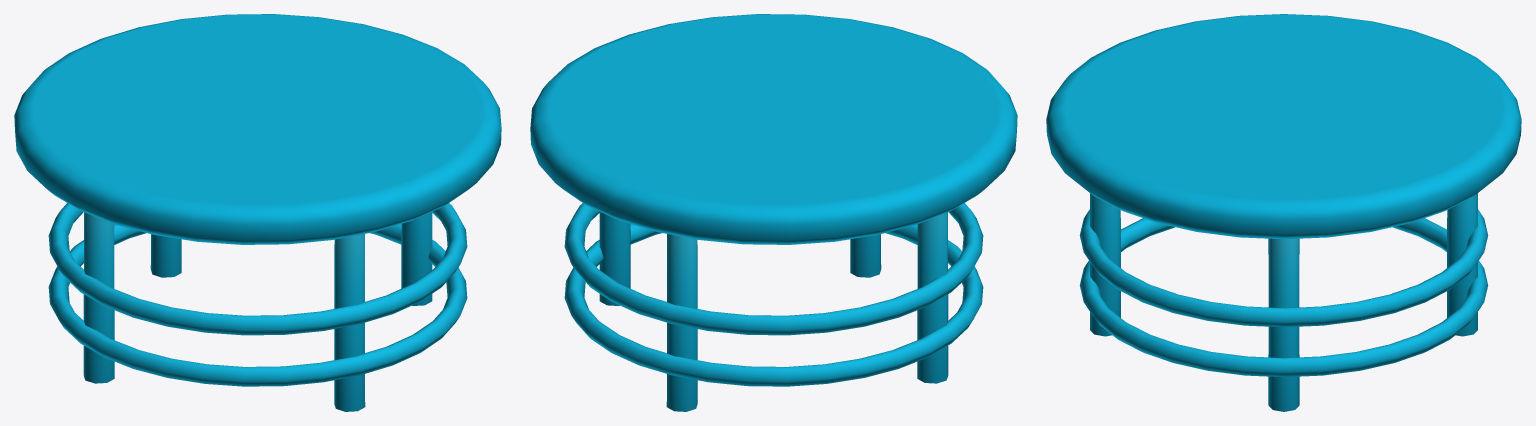
The model's file is Coffee_Table_01.glb.
The picture shows the model from 3 angles, left to right: view 1: azimuth 30°, elevation 25°; view 2: azimuth 150°, elevation 25°; view 3: azimuth 270°, elevation 25°; orthographic projection. The views are drawn at different scales.
Visible parts, largest first — view 1: Coffee_Table_01; view 2: Coffee_Table_01; view 3: Coffee_Table_01.
Boxes of the visible parts, x1=… form: Coffee_Table_01: x1=14, y1=14, x2=501, y2=411; Coffee_Table_01: x1=530, y1=14, x2=1017, y2=411; Coffee_Table_01: x1=1046, y1=14, x2=1521, y2=411.
Bounding box in the file's own units: 0.802 × 0.4242 × 0.802.
1 material, 1 textured.
